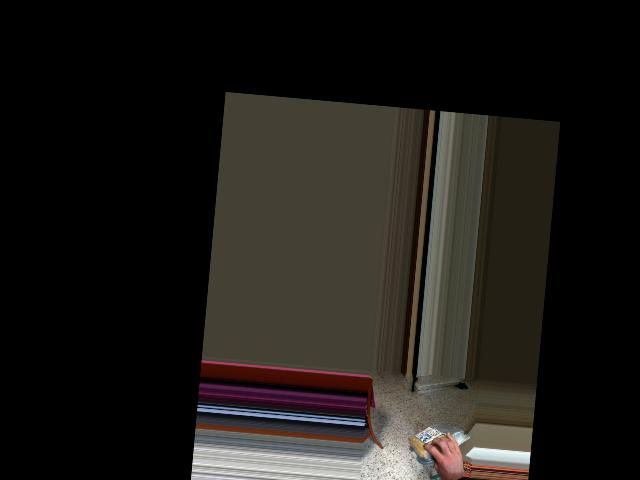cheese: (401, 425, 467, 458)
